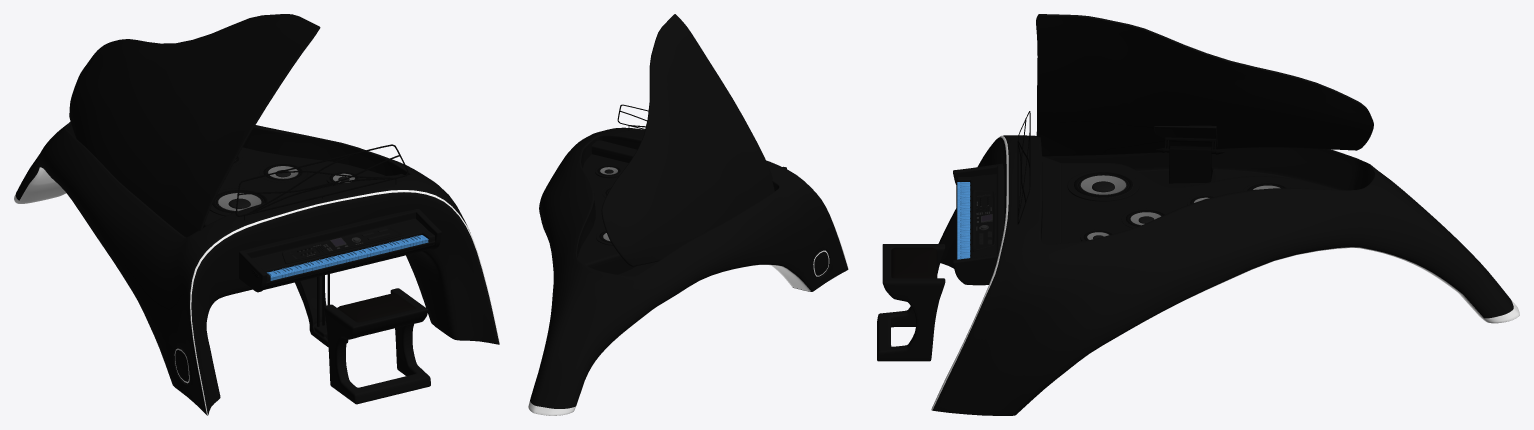
File: fbx_Whaletone.FBX
The picture shows the model from 3 angles, left to right: view 1: azimuth 30°, elevation 25°; view 2: azimuth 150°, elevation 25°; view 3: azimuth 270°, elevation 25°; orthographic projection. The views are drawn at different scales.
Visible parts, largest first — view 1: Base, Cap_Piano, Controller_Base, Chair_Base, Base_Speaker, Stand, Keyboard, Control_Panel_Plate, Chair_Seat, Foot, Speaker_01, Speaker_03; view 2: Base, Cap_Piano, Base_Speaker, KeyCap_Elm, Speaker_02; view 3: Base, Cap_Piano, Base_Speaker, Chair_Base, Controller_Base, Speaker_01, KeyCap_Elm, Mount_Cup, Chair_Seat, Control_Panel_Plate, Keyboard, Stand (+1 smaller).
Part boxes in pixels (<box>): Base: <box>14,121,499,415</box>; Cap_Piano: <box>69,14,320,237</box>; Controller_Base: <box>239,209,441,292</box>; Chair_Base: <box>324,288,430,404</box>; Base_Speaker: <box>203,147,384,227</box>; Stand: <box>235,144,408,220</box>; Keyboard: <box>267,235,428,280</box>; Control_Panel_Plate: <box>282,226,403,264</box>; Chair_Seat: <box>337,293,414,322</box>; Foot: <box>295,276,348,347</box>; Speaker_01: <box>210,188,272,216</box>; Speaker_03: <box>259,162,306,182</box>; Base: <box>528,127,848,415</box>; Cap_Piano: <box>601,14,774,266</box>; Base_Speaker: <box>578,154,636,274</box>; KeyCap_Elm: <box>591,140,636,162</box>; Speaker_02: <box>595,165,622,177</box>; Base: <box>931,135,1519,415</box>; Cap_Piano: <box>1036,14,1373,156</box>; Base_Speaker: <box>1061,163,1336,242</box>; Chair_Base: <box>877,244,945,361</box>; Controller_Base: <box>953,163,1004,285</box>; Speaker_01: <box>1067,170,1139,201</box>; KeyCap_Elm: <box>1041,156,1061,243</box>; Mount_Cup: <box>1169,146,1213,183</box>; Chair_Seat: <box>891,247,937,278</box>; Control_Panel_Plate: <box>972,190,995,251</box>; Keyboard: <box>957,182,970,259</box>; Stand: <box>1017,111,1030,224</box>.
Bounding box in the file's own units: 2660 × 2604 × 4599.
